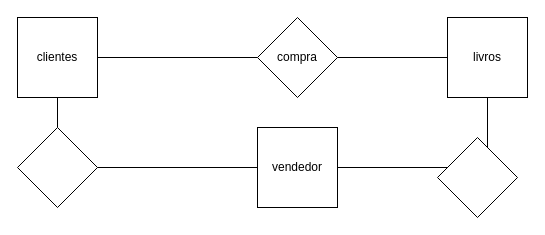
This 545x235 diagram has some shape labels left out. The centre of each missing label's shape, as x and y in pixels:
"atendente" belongs at (57,167).
"vende" belongs at (477,177).
